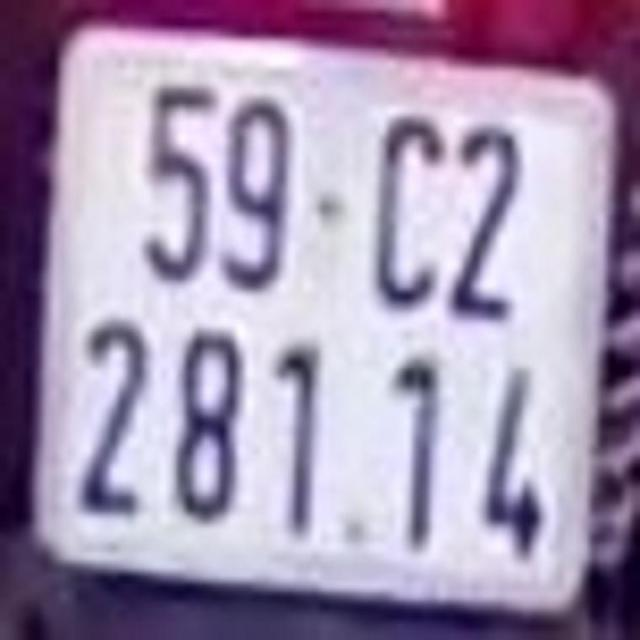1: (393, 350, 439, 550), (284, 354, 319, 537)
2: (456, 117, 526, 326), (84, 323, 144, 512)
4: (484, 372, 547, 558)
5: (146, 84, 209, 276)
8: (178, 335, 242, 522)
9: (221, 96, 287, 287)
C: (371, 109, 437, 304)
